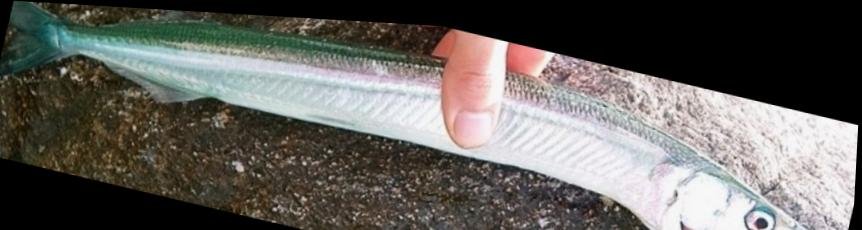fish: (0, 1, 828, 230)
